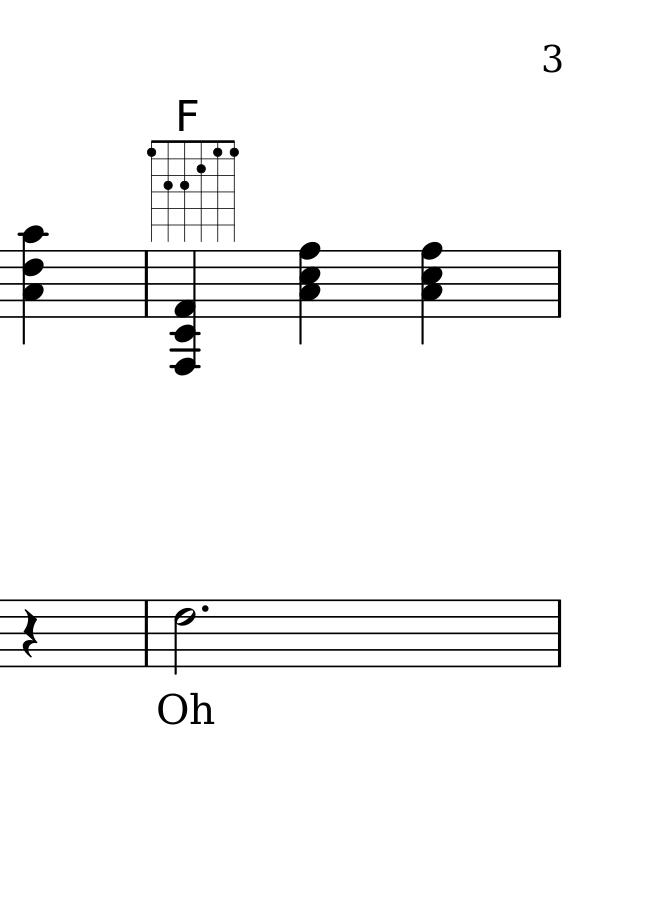2_6: (172, 596, 201, 677)
3: (540, 41, 565, 76)
4_th: (168, 251, 202, 378), (16, 223, 50, 345), (296, 241, 323, 345), (419, 242, 443, 341)
Fretboard: (144, 138, 242, 246)
Rests4: (19, 607, 42, 661)
Single_barline: (546, 249, 570, 318), (135, 251, 158, 319), (137, 600, 159, 670), (546, 600, 568, 666)
dot: (198, 597, 212, 620), (196, 601, 211, 613)
